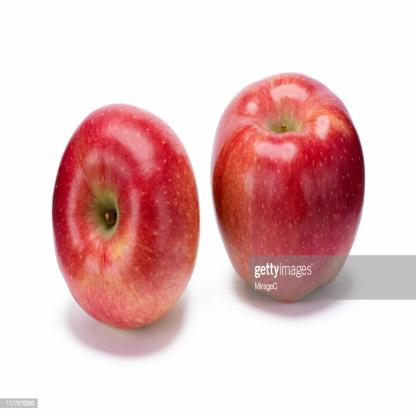Apple: (213, 58, 364, 312), (58, 89, 208, 325)
